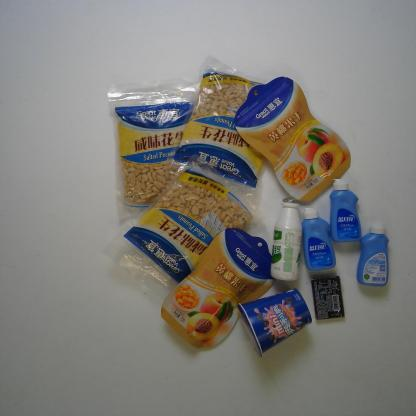Dessert: (237, 288, 313, 359)
Dried Fruit: (103, 153, 268, 311), (162, 55, 278, 214), (233, 75, 351, 204), (107, 76, 208, 224), (160, 226, 278, 350)
Gum: (311, 276, 345, 320)
Milk: (270, 198, 304, 282)
Personal Hygiene: (356, 220, 389, 287), (302, 206, 336, 271), (328, 178, 362, 243)
